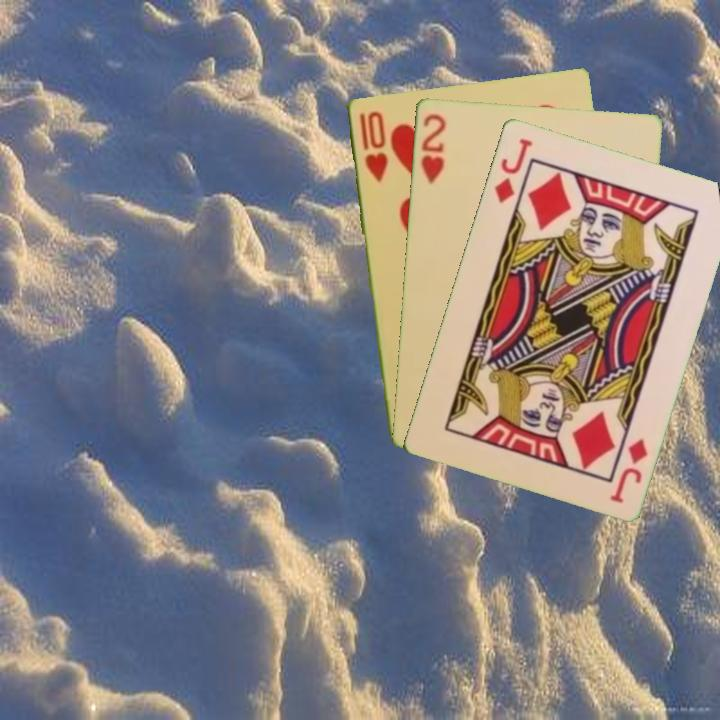10h: (355, 107, 390, 185)
2h: (416, 110, 448, 186)
Jd: (490, 134, 535, 206), (606, 434, 651, 506)
